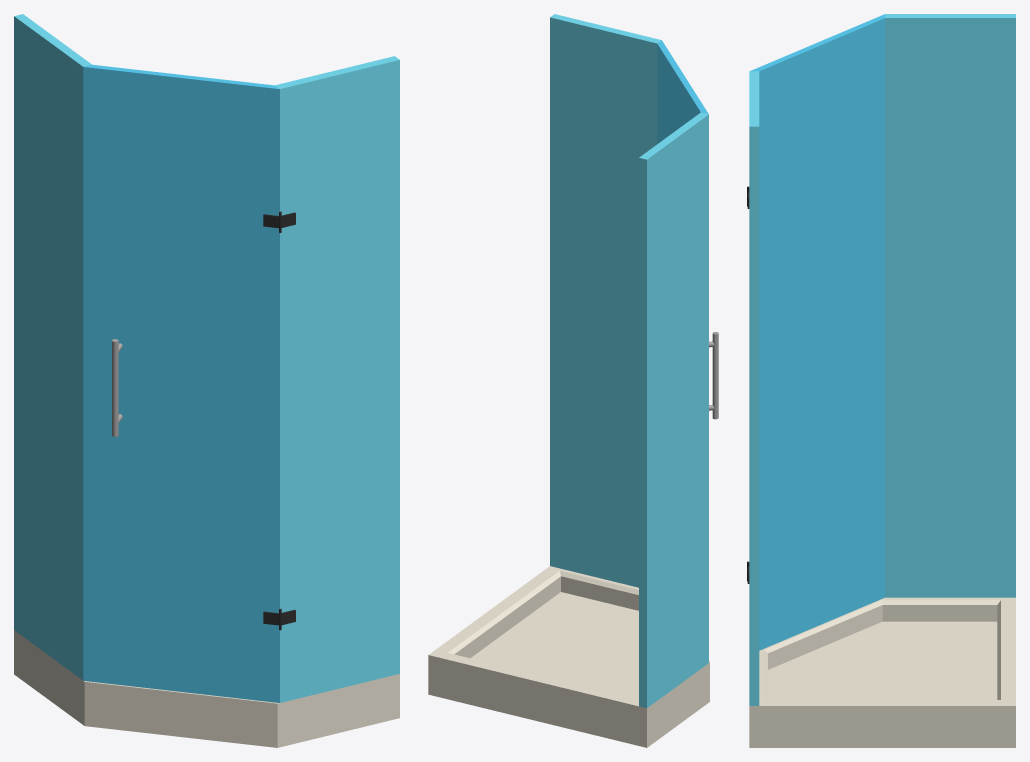
Rendered from Prop_Bath_04.fbx.
3 views of the same model, side by side, from view 1: azimuth 30°, elevation 25°; view 2: azimuth 150°, elevation 25°; view 3: azimuth 270°, elevation 25° (orthographic). The views are drawn at different scales.
Parts seen in each view (by area): view 1: Prop_Bath_04; view 2: Prop_Bath_04; view 3: Prop_Bath_04.
Boxes of the visible parts, box(x1,y1,x2,y2) form: Prop_Bath_04: box(14, 14, 399, 747); Prop_Bath_04: box(428, 14, 718, 747); Prop_Bath_04: box(747, 14, 1015, 747).
Size of the model in its own units: 86.95 by 224 by 87.73.
